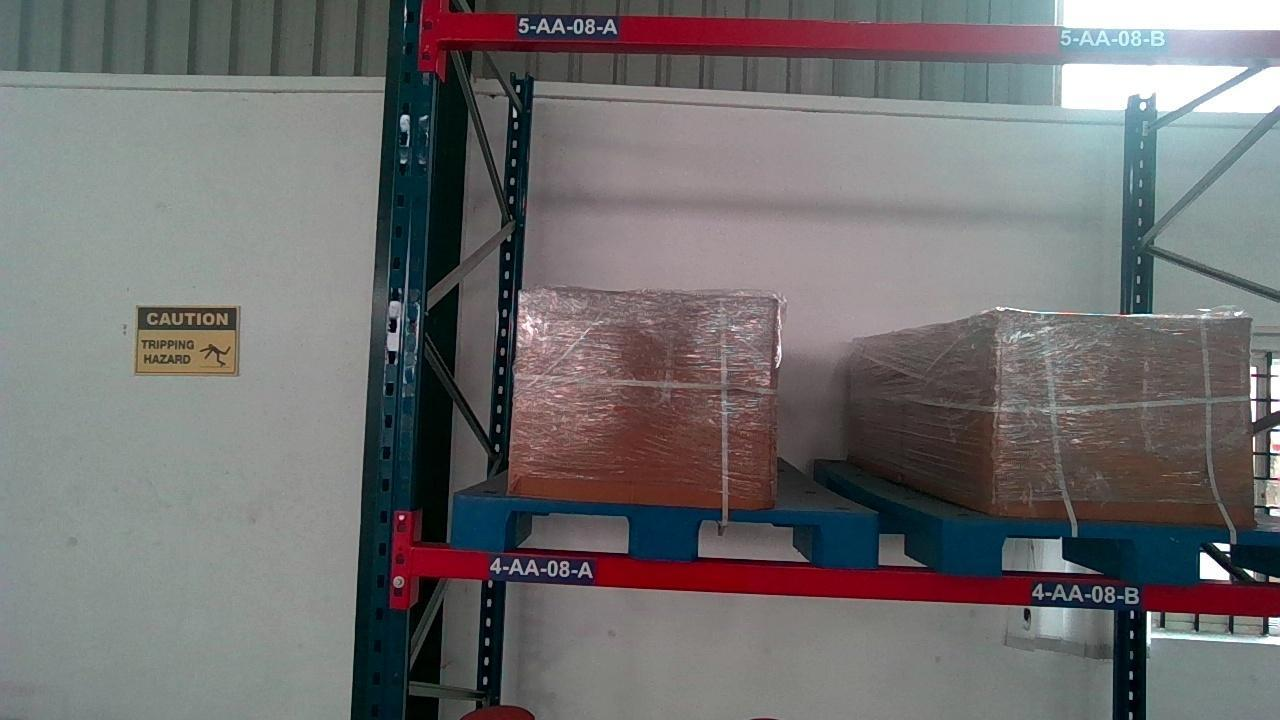h_rack: (417, 544, 1280, 615), (436, 11, 1280, 63)
small_pallet: (449, 497, 875, 560), (949, 521, 1280, 580)
